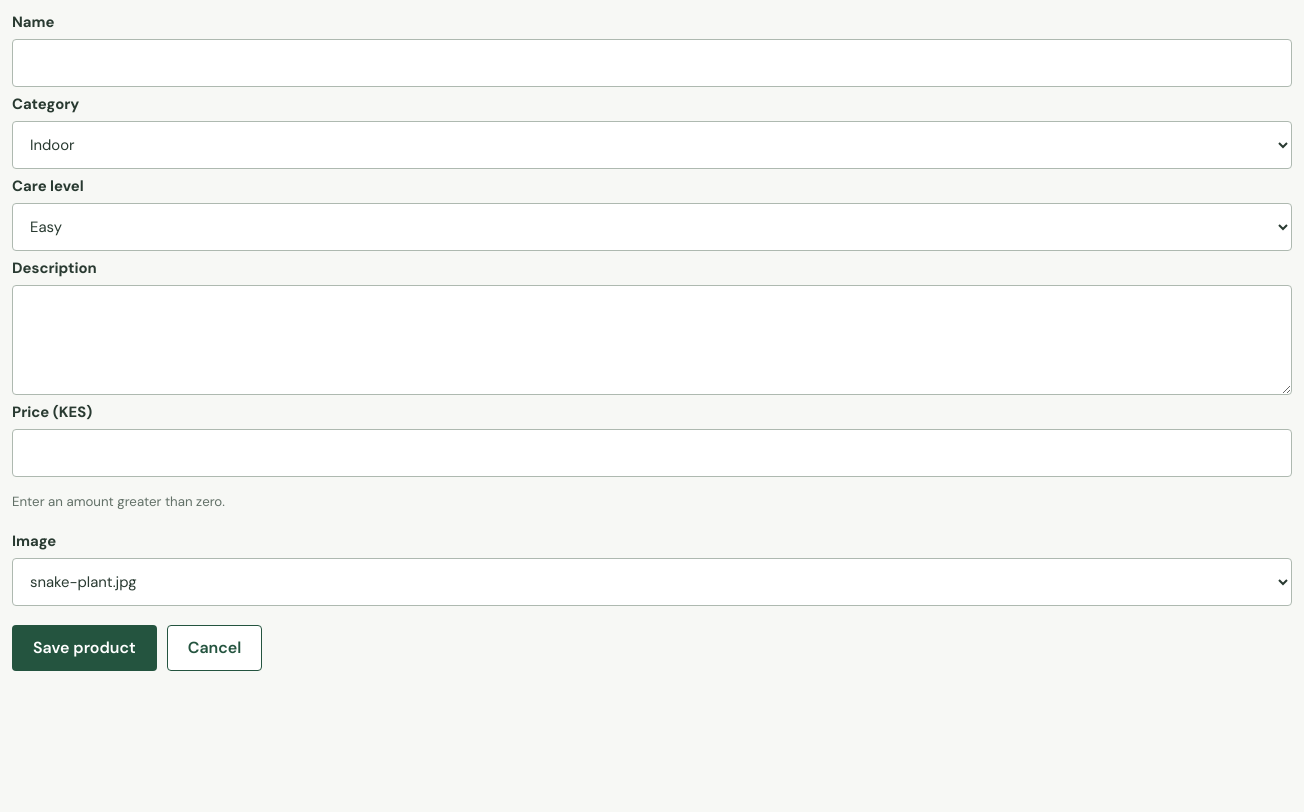
Test: ProductForm › rejects a price of zero
In the field labelled "Name": (652, 63) [12,39,1292,87], type "Rubber Plant"
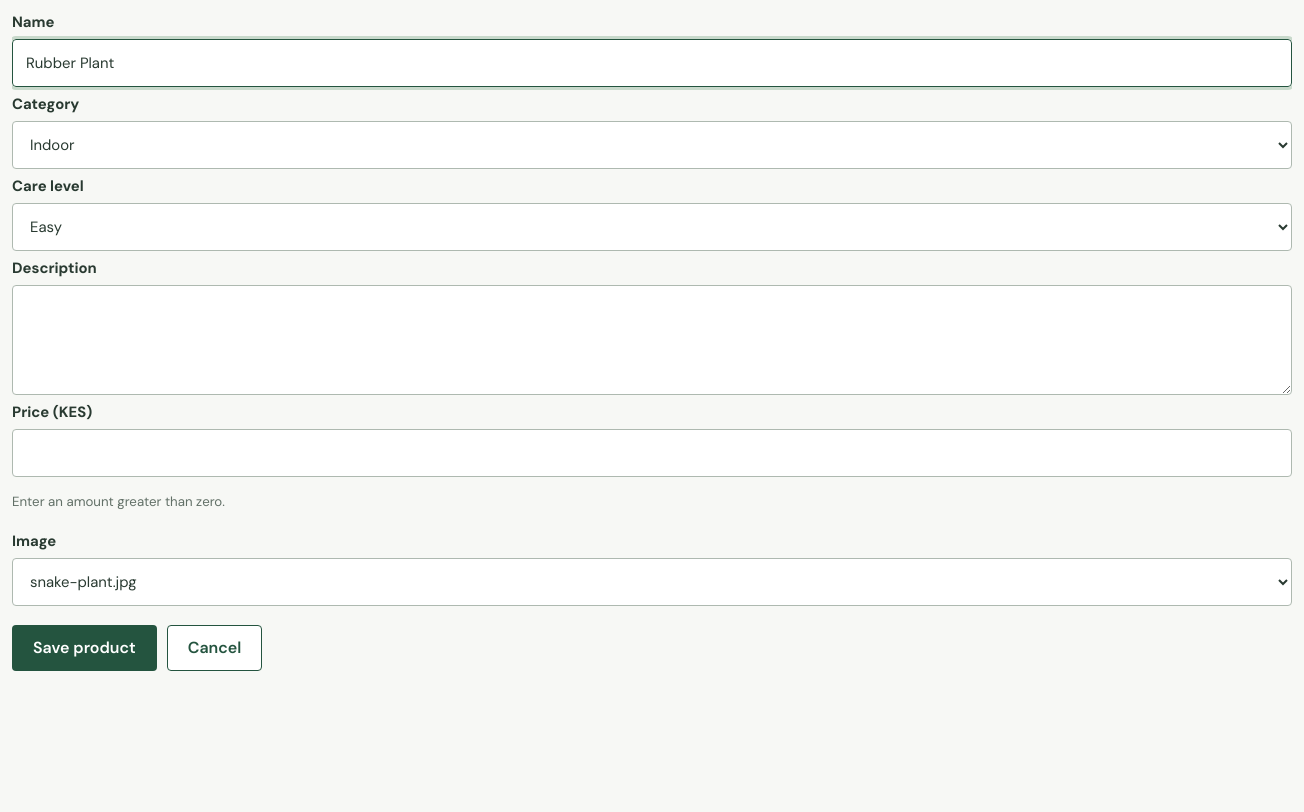
In the text box labelled "Description": (652, 340) [12,285,1292,395], type "A glossy, easy-going plant."
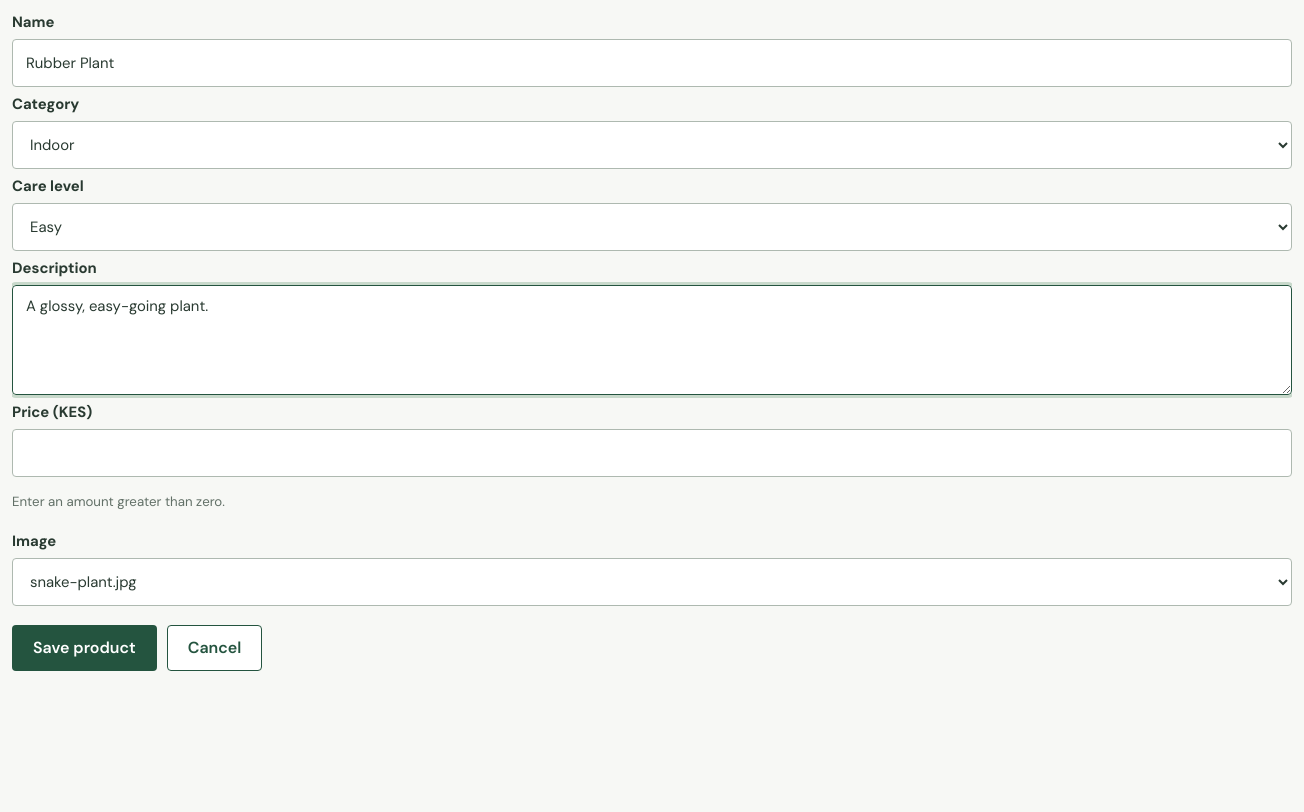
In the number field labelled "Price (KES)": (652, 453) [12,429,1292,477], type "0"
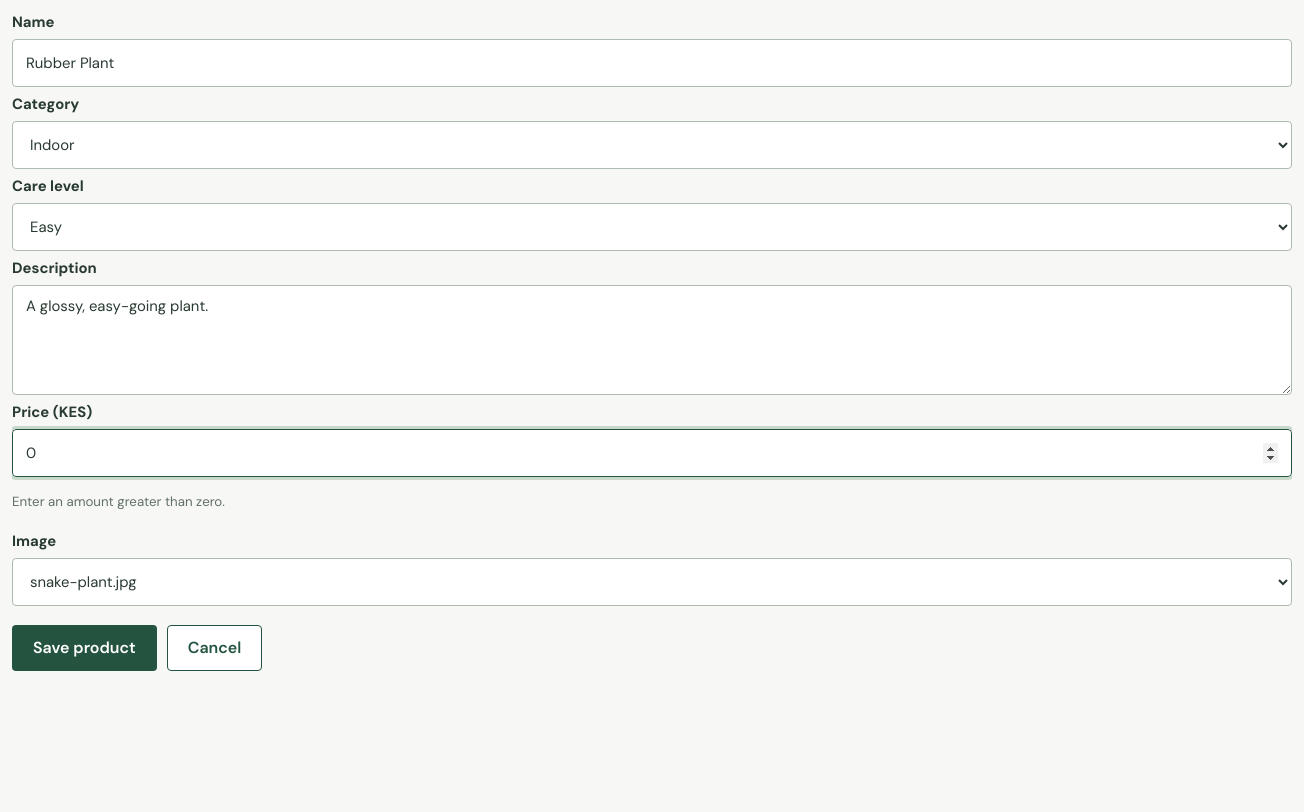
Click the button "Save product": click(84, 648) [12,625,157,671]
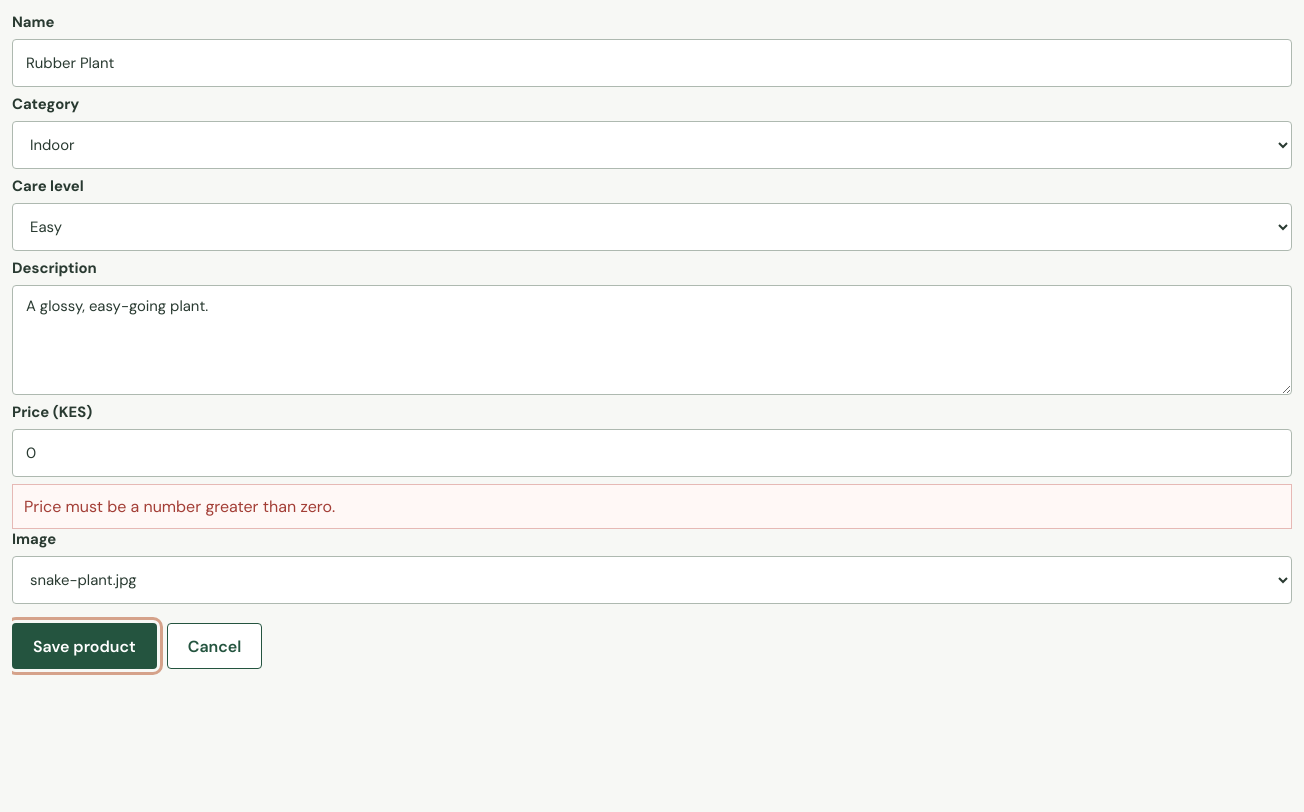
Check: the text "Price must be a number greater than zero." is shown, box [12,484,1292,529]
